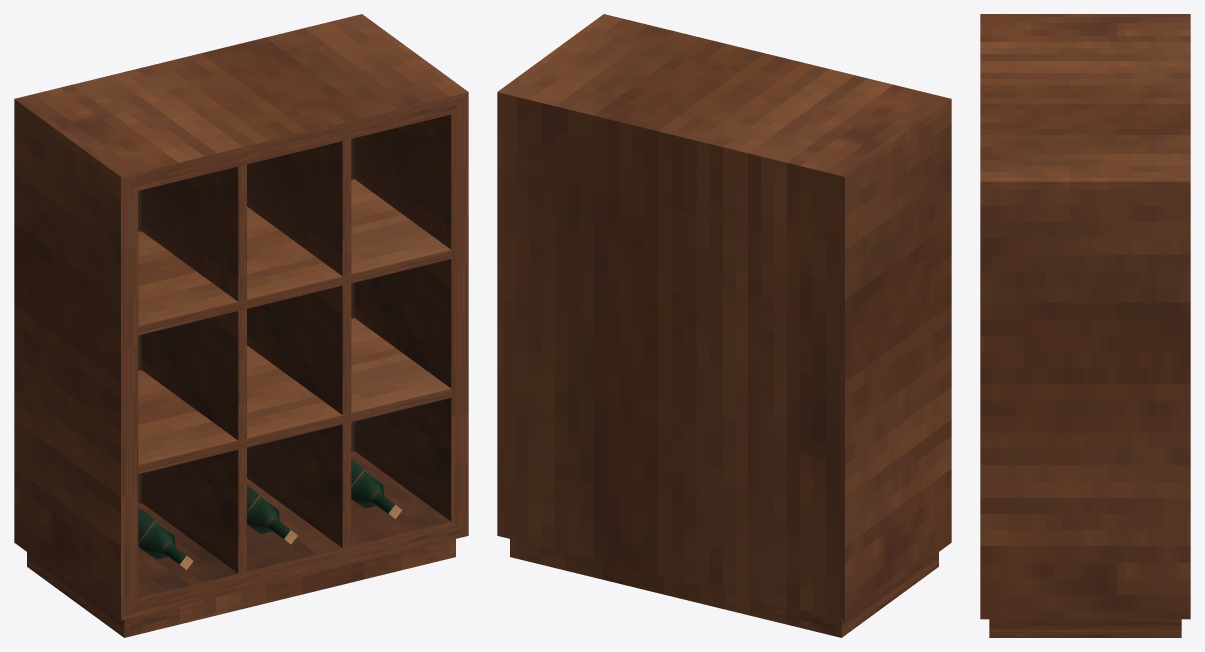
Rendered from walnut-wine-rack-cabinet.glb.
3 renders of one model, left to right at view 1: azimuth 30°, elevation 25°; view 2: azimuth 150°, elevation 25°; view 3: azimuth 270°, elevation 25°, orthographic.
Parts seen in each view (by area): view 1: walnut-wine-rack-cabinet; view 2: walnut-wine-rack-cabinet; view 3: walnut-wine-rack-cabinet.
Boxes of the visible parts, bbox=[...] form: walnut-wine-rack-cabinet: bbox=[14, 14, 468, 637]; walnut-wine-rack-cabinet: bbox=[497, 14, 951, 637]; walnut-wine-rack-cabinet: bbox=[980, 14, 1190, 637].
Bounding box in the file's own units: 0.64 × 0.82 × 0.34.
Materials: 1 (1 with a texture image).
